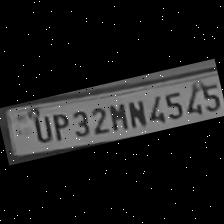2: (86, 103, 111, 136)
3: (66, 104, 92, 138)
4: (141, 90, 168, 127), (178, 82, 204, 118)
5: (196, 77, 222, 115), (159, 87, 185, 122)
M: (105, 99, 129, 133)
N: (122, 96, 148, 130)
P: (46, 108, 71, 142)
U: (27, 112, 53, 146)
